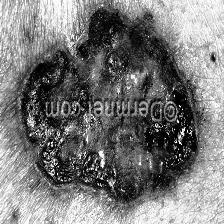Potentially Malignant Skin Tumors: (20, 5, 202, 101), (16, 122, 208, 202)
